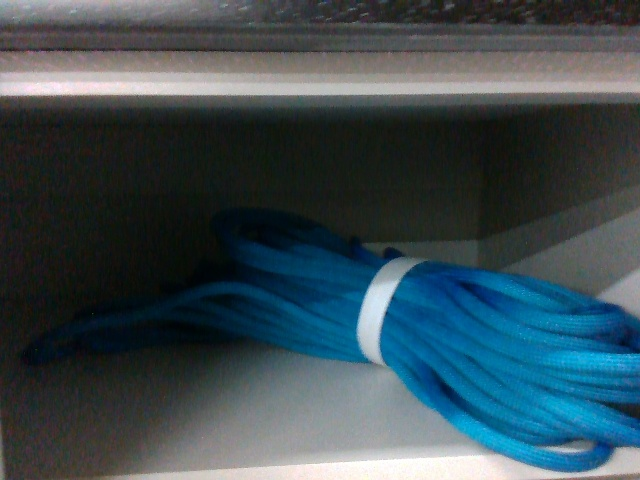rope: (211, 224, 633, 463)
